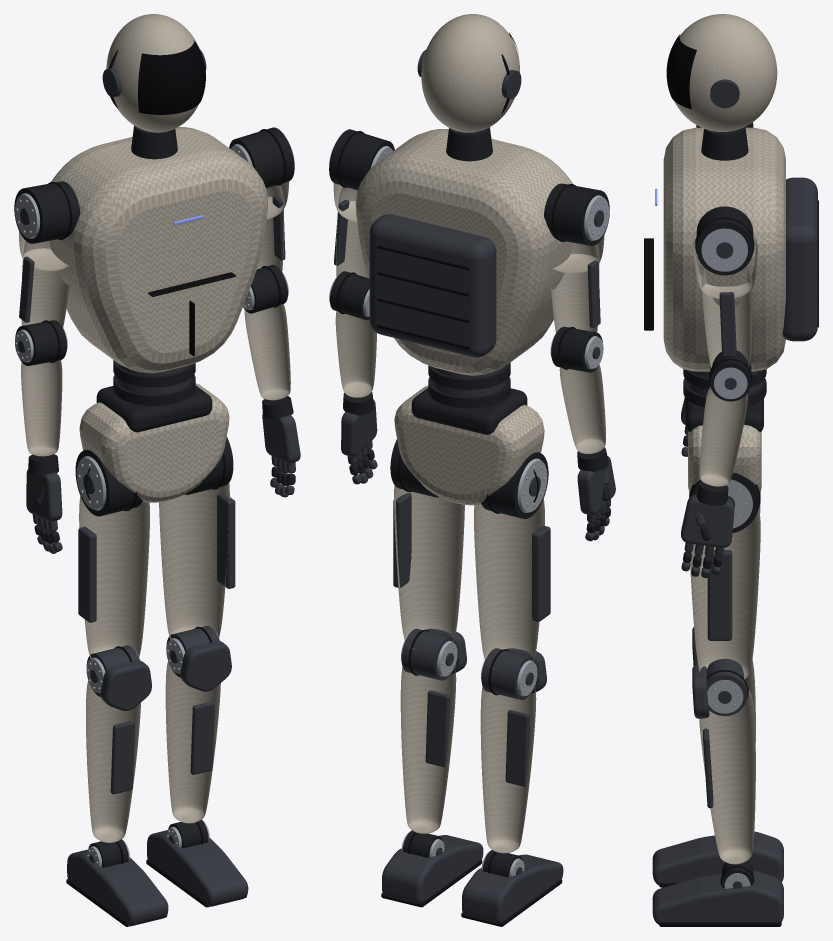
The model's file is humanoidSoft.glb.
3 views of the same model, side by side, from view 1: azimuth 30°, elevation 25°; view 2: azimuth 150°, elevation 25°; view 3: azimuth 270°, elevation 25° (orthographic).
Visible parts, largest first — view 1: torsoShell, pelvisShell, thighR, thighL, headShell, shinR, shinL, footL, footR, face, forearmL, forearmR (+26 smaller); view 2: torsoShell, backpack, pelvisShell, headShell, thighL, thighR, shinL, shinR, torso, footL, footR, shoulderMotorL (+25 smaller); view 3: torsoShell, headShell, shinR, thighR, footR, backpack, footL, forearmR, shoulderMotorR, upperArmR, hipR, pelvisShell (+17 smaller).
Part boxes in pixels (<box>): torsoShell: <box>49,127,267,373</box>; pelvisShell: <box>79,383,229,502</box>; thighR: <box>159,483,229,642</box>; thighL: <box>79,494,149,661</box>; headShell: <box>106,14,200,132</box>; shinR: <box>165,661,220,823</box>; shinL: <box>86,681,140,842</box>; footL: <box>67,849,168,926</box>; footR: <box>147,830,248,906</box>; face: <box>138,41,205,114</box>; forearmL: <box>21,360,62,456</box>; forearmR: <box>244,304,290,400</box>; torsoShell: <box>355,129,572,375</box>; backpack: <box>369,214,496,357</box>; pelvisShell: <box>394,386,544,505</box>; headShell: <box>421,14,519,132</box>; thighL: <box>474,497,544,669</box>; thighR: <box>394,485,464,649</box>; shinL: <box>480,685,536,853</box>; shinR: <box>400,666,456,833</box>; torso: <box>377,245,510,408</box>; footL: <box>462,854,563,923</box>; footR: <box>382,835,483,903</box>; shoulderMotorL: <box>544,183,609,245</box>; torsoShell: <box>663,127,785,371</box>; headShell: <box>674,14,777,131</box>; shinR: <box>699,690,755,864</box>; thighR: <box>690,508,760,680</box>; footR: <box>652,870,783,924</box>; backpack: <box>782,177,817,341</box>; footL: <box>652,831,783,885</box>; forearmR: <box>699,387,747,486</box>; shoulderMotorR: <box>695,206,754,275</box>; upperArmR: <box>701,265,752,368</box>; hipR: <box>707,550,732,640</box>; pelvisShell: <box>688,424,761,493</box>.
Size of the model in its own units: 0.6258 by 1.98 by 0.357.
Materials: 8 (1 with a texture image).
